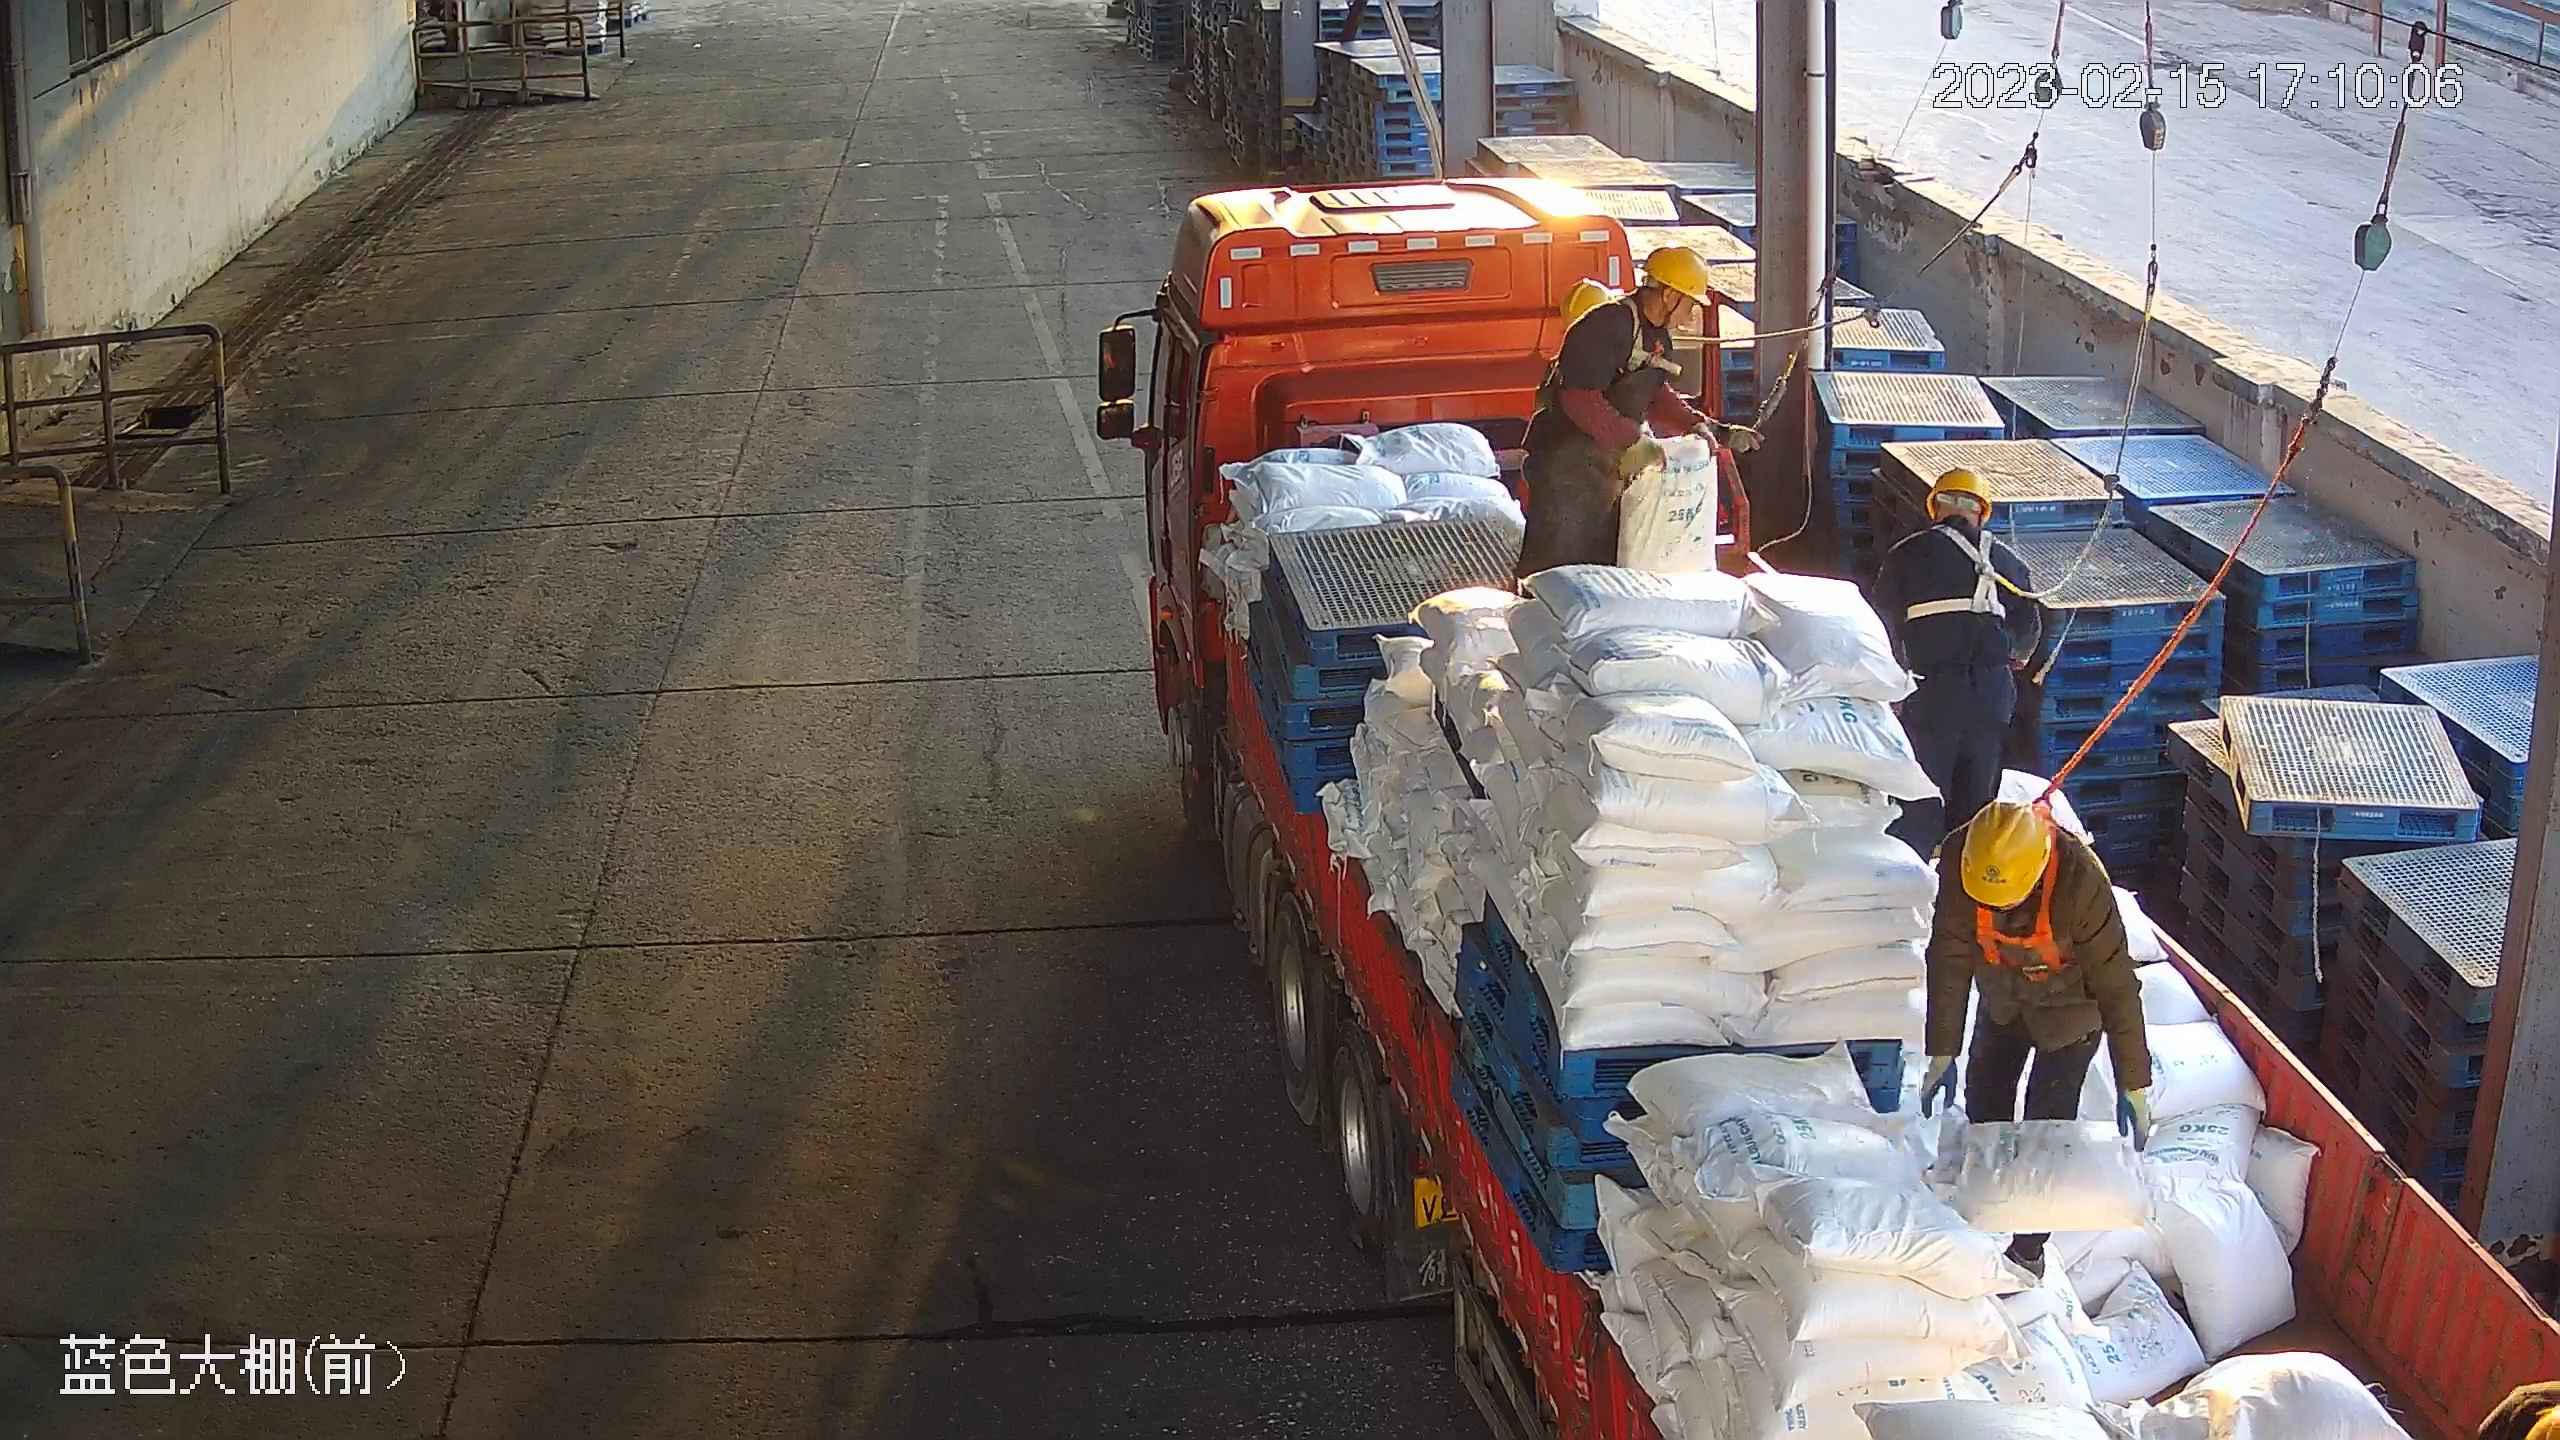belt: (1953, 785, 2084, 985), (1902, 520, 2052, 625), (1612, 299, 1716, 395)
head: (1929, 800, 2118, 914), (1877, 466, 2037, 577), (1557, 246, 1714, 354)
helmet: (1959, 800, 2052, 908), (1641, 246, 1713, 307), (1925, 466, 1990, 527)
people: (1918, 801, 2154, 1282), (1516, 244, 1764, 597), (1865, 466, 2045, 866)
truck: (1136, 173, 2560, 1440)
